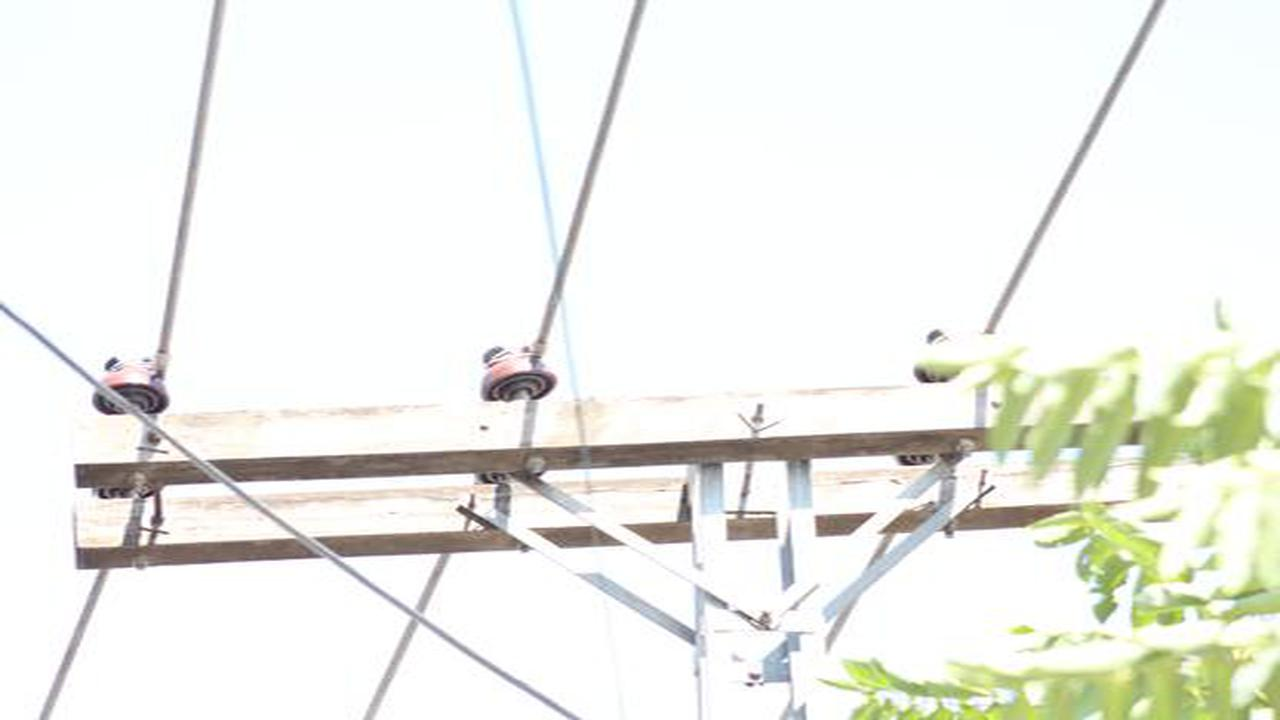insulator_pin: (476, 335, 569, 405), (90, 350, 174, 418)
